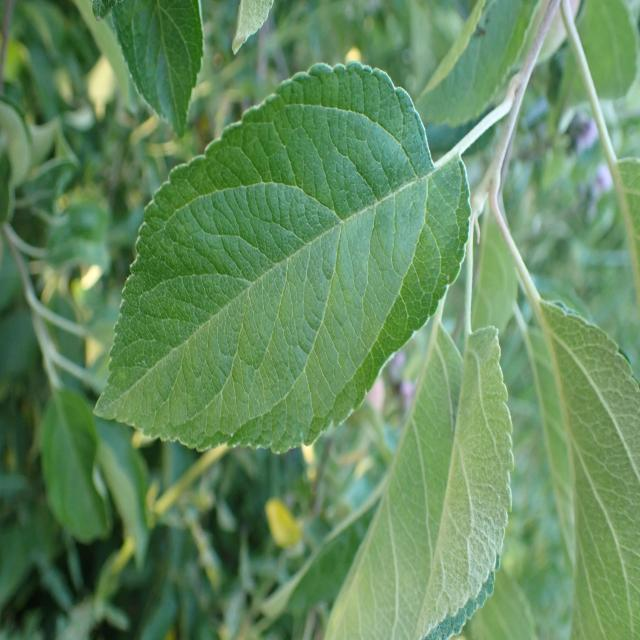healthy: (92, 61, 472, 455), (325, 322, 514, 640), (535, 299, 640, 640), (91, 0, 204, 139)
